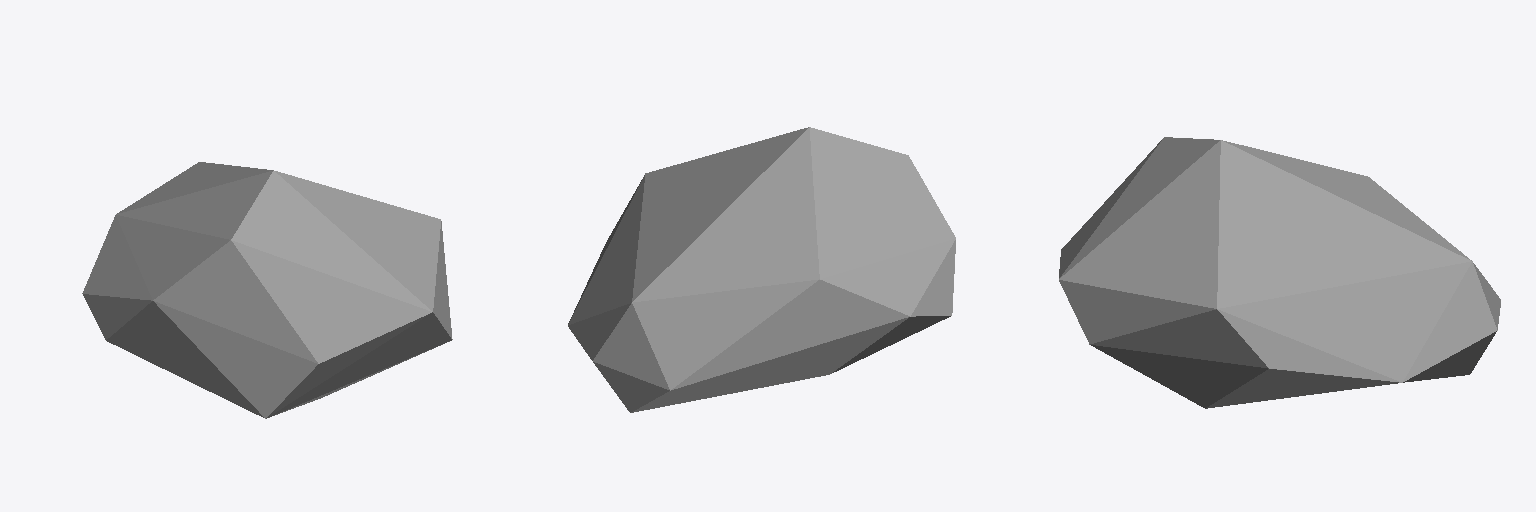
File: Low_Poly_Rock_003.obj
3 renders of one model, left to right at view 1: azimuth 30°, elevation 25°; view 2: azimuth 150°, elevation 25°; view 3: azimuth 270°, elevation 25°, orthographic.
Parts seen in each view (by area): view 1: Low_Poly_Rock_003_Icosphere.004; view 2: Low_Poly_Rock_003_Icosphere.004; view 3: Low_Poly_Rock_003_Icosphere.004.
Part boxes in pixels (x1,y1,x2,y2): Low_Poly_Rock_003_Icosphere.004: (82,162,452,418); Low_Poly_Rock_003_Icosphere.004: (568,127,955,412); Low_Poly_Rock_003_Icosphere.004: (1059,137,1500,408).
Size of the model in its own units: 1.6 by 1.01 by 1.84.